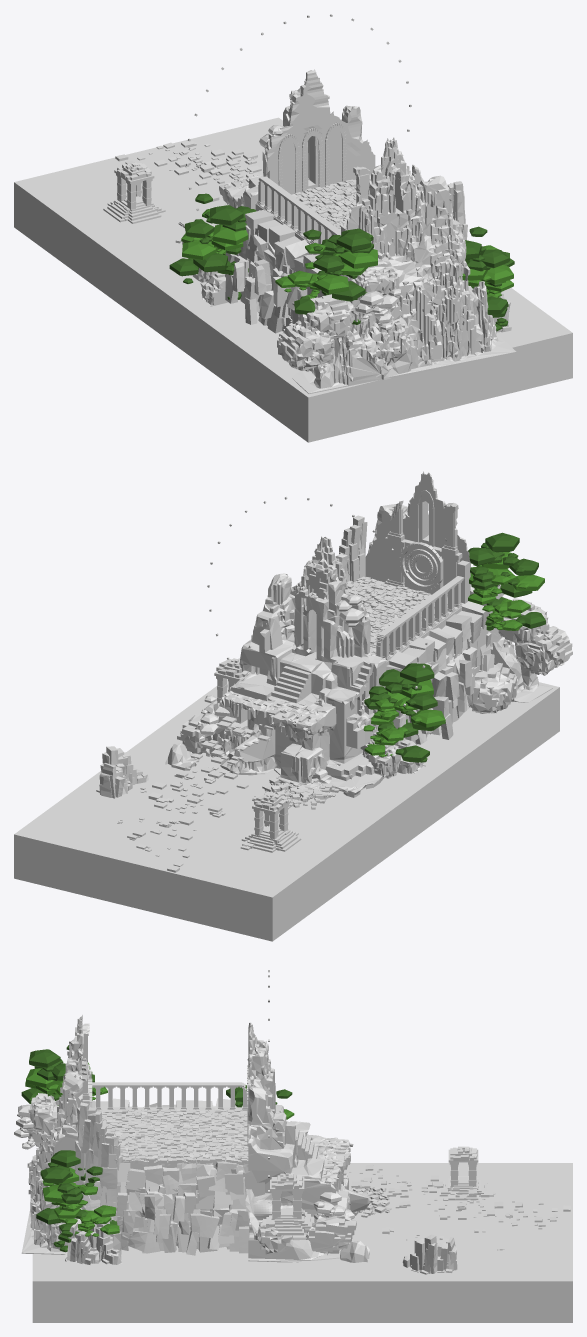
Rendered from 0.2_Aztec.fbx.
The picture shows the model from 3 angles, top to bottom: view 1: azimuth 30°, elevation 25°; view 2: azimuth 150°, elevation 25°; view 3: azimuth 270°, elevation 25°; orthographic projection. The views are drawn at different scales.
Visible parts, largest first — view 1: Temple.001, Water, 0.2_tree, 0.1_tree, 0.6_tree, Temple, Floor, 0.5_tree; view 2: Temple.001, Water, 0.2_tree, 0.1_tree, Floor, Temple, 0.1_rock, 0.4_tree, Stones in water, 0.3_tree; view 3: Water, Temple.001, Floor, 0.6_tree, 0.2_tree, 0.1_rock, Temple, 0.4_tree, 0.5_tree, Stones in water.
Part boxes in pixels (left/top/right/bottom): Temple.001: left=175, top=69, right=516, bottom=393; Water: left=14, top=117, right=572, bottom=442; 0.2_tree: left=275, top=228, right=377, bottom=324; 0.1_tree: left=169, top=193, right=256, bottom=300; 0.6_tree: left=459, top=226, right=514, bottom=331; Temple: left=103, top=162, right=165, bottom=223; Floor: left=292, top=174, right=370, bottom=230; 0.5_tree: left=355, top=288, right=401, bottom=330; Temple.001: left=165, top=471, right=572, bottom=809; Water: left=14, top=679, right=559, bottom=941; 0.2_tree: left=468, top=532, right=545, bottom=630; 0.1_tree: left=363, top=663, right=445, bottom=762; Floor: left=346, top=576, right=447, bottom=655; Temple: left=241, top=793, right=301, bottom=852; 0.1_rock: left=96, top=746, right=148, bottom=798; 0.4_tree: left=199, top=695, right=229, bottom=737; Stones in water: left=117, top=775, right=293, bottom=872; 0.3_tree: left=336, top=594, right=364, bottom=627; Water: left=32, top=1163, right=572, bottom=1322; Temple.001: left=21, top=1015, right=391, bottom=1264; Floor: left=97, top=1108, right=248, bottom=1165; 0.6_tree: left=36, top=1150, right=119, bottom=1252; 0.2_tree: left=21, top=1045, right=107, bottom=1105; 0.1_rock: left=402, top=1234, right=457, bottom=1274; Temple: left=439, top=1146, right=487, bottom=1200; 0.4_tree: left=313, top=1191, right=354, bottom=1219; 0.5_tree: left=14, top=1104, right=42, bottom=1149; Stones in water: left=382, top=1190, right=570, bottom=1250.
Size of the model in its own units: 21998 by 22633 by 41424.
